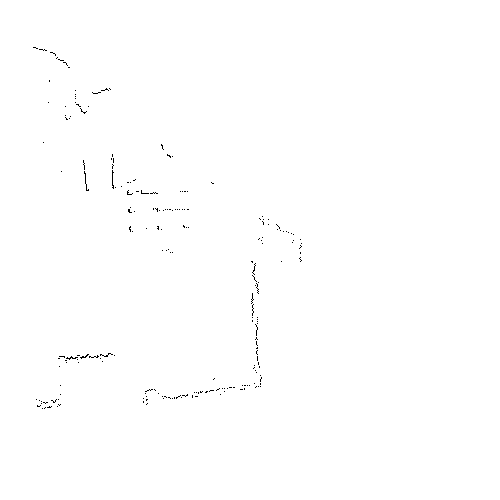pallet: (126, 186, 191, 233)
